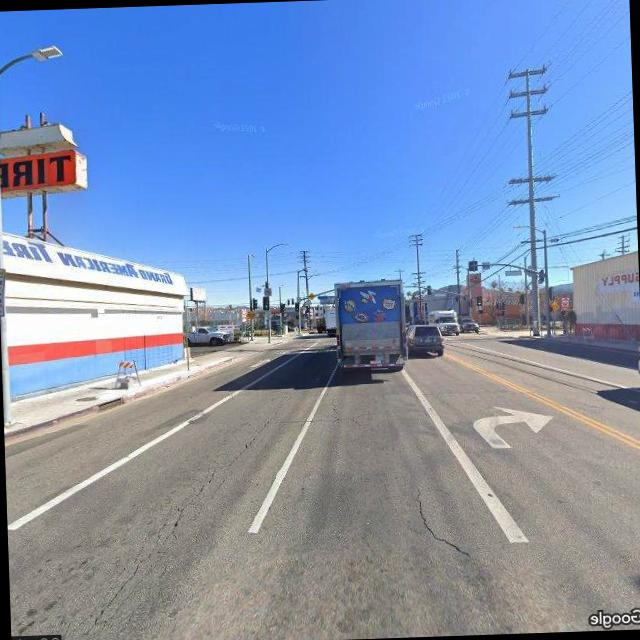pothole: (60, 387, 296, 640), (416, 478, 472, 565)
